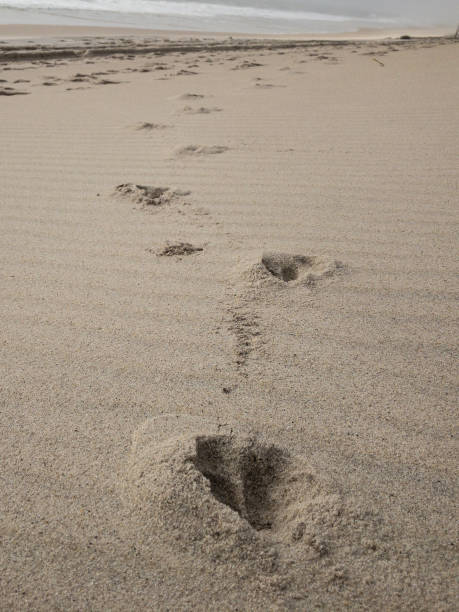animal_foot_print: (191, 435, 282, 529), (262, 252, 337, 281), (114, 183, 187, 208), (156, 242, 203, 256), (175, 145, 228, 156)
